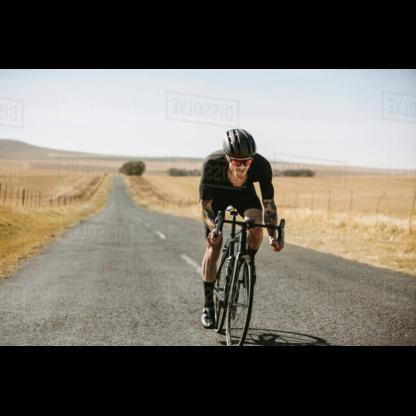Bicycle: (183, 204, 302, 341)
